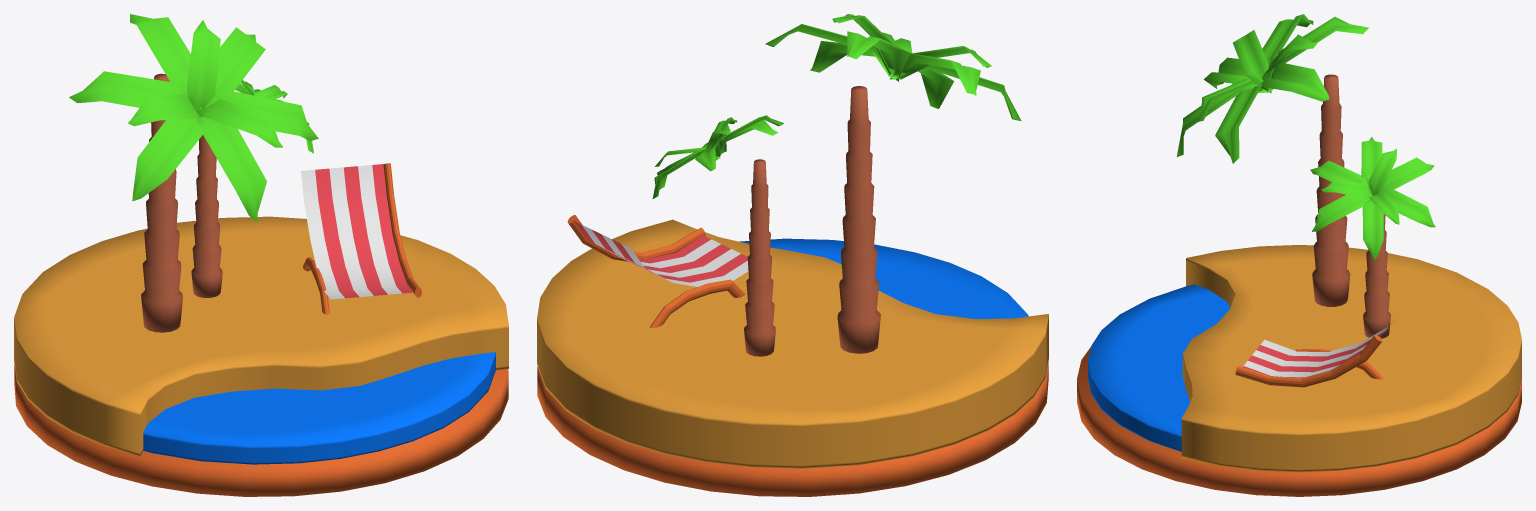
Rendered from beach.glb.
3 views of the same model, side by side, from view 1: azimuth 30°, elevation 25°; view 2: azimuth 150°, elevation 25°; view 3: azimuth 270°, elevation 25° (orthographic). The views are drawn at different scales.
Parts seen in each view (by area): view 1: Roundcube, Roundcube.001, Circle, Vert, Cylinder, Cylinder.001, Plane.006, Plane.004, Plane.001, Plane.002, Plane.007, Plane.003 (+4 smaller); view 2: Roundcube, Circle, Cylinder, Roundcube.001, Cylinder.001, Vert, Vert.002, Plane.002, Plane.001, Plane.005, Plane.006, Plane.003 (+1 smaller); view 3: Roundcube, Roundcube.001, Circle, Cylinder, Vert, Cylinder.001, Vert.002, Plane.003, Plane.005, Plane.009, Plane.013, Plane.002 (+13 smaller).
Boxes of the visible parts, box(x1,y1,x2,y2) form: Roundcube: box(14, 216, 508, 456); Roundcube.001: box(143, 352, 495, 464); Circle: box(14, 364, 508, 496); Vert: box(301, 164, 413, 299); Cylinder: box(141, 73, 182, 332); Cylinder.001: box(191, 135, 222, 297); Plane.006: box(197, 114, 266, 221); Plane.004: box(132, 115, 205, 201); Plane.001: box(69, 71, 182, 107); Plane.002: box(130, 14, 190, 97); Plane.007: box(187, 20, 220, 112); Plane.003: box(199, 27, 265, 109); Roundcube: box(537, 219, 1048, 468); Circle: box(537, 362, 1048, 496); Cylinder: box(837, 86, 880, 353); Roundcube.001: box(739, 238, 1028, 319); Cylinder.001: box(744, 159, 775, 356); Vert: box(572, 220, 748, 286); Vert.002: box(567, 215, 745, 328); Plane.002: box(847, 31, 909, 78); Plane.001: box(893, 52, 980, 95); Plane.005: box(810, 41, 897, 77); Plane.006: box(891, 68, 954, 108); Plane.003: box(765, 24, 901, 79); Roundcube: box(1181, 245, 1521, 472); Roundcube.001: box(1088, 284, 1230, 451); Circle: box(1077, 347, 1521, 496); Cylinder: box(1312, 74, 1350, 306); Vert: box(1242, 320, 1393, 377); Cylinder.001: box(1363, 214, 1390, 338); Vert.002: box(1235, 335, 1383, 387); Plane.003: box(1260, 63, 1329, 101); Plane.005: box(1215, 84, 1272, 163); Plane.009: box(1233, 30, 1271, 93); Plane.013: box(1362, 200, 1383, 260); Plane.002: box(1271, 17, 1368, 89).
Bounding box in the file's own units: 8 × 6.75 × 8.
